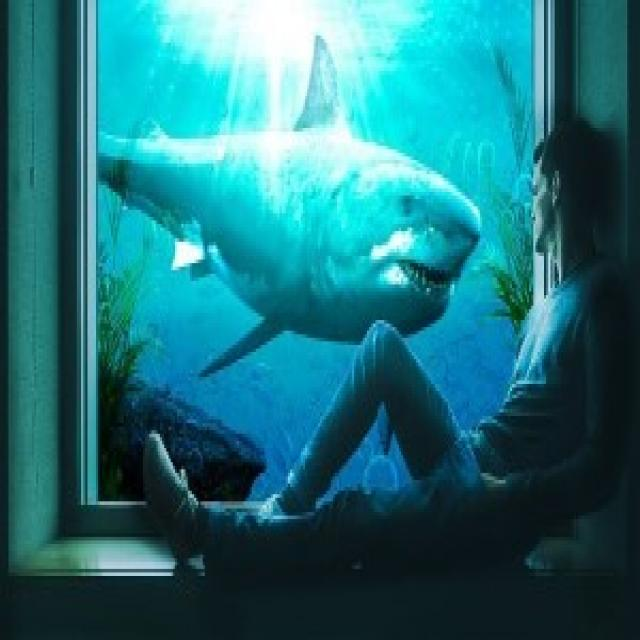Shark: (95, 28, 488, 325)
